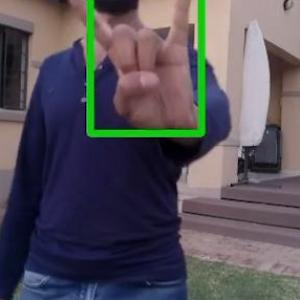takeoff-hand: (62, 0, 201, 143)
